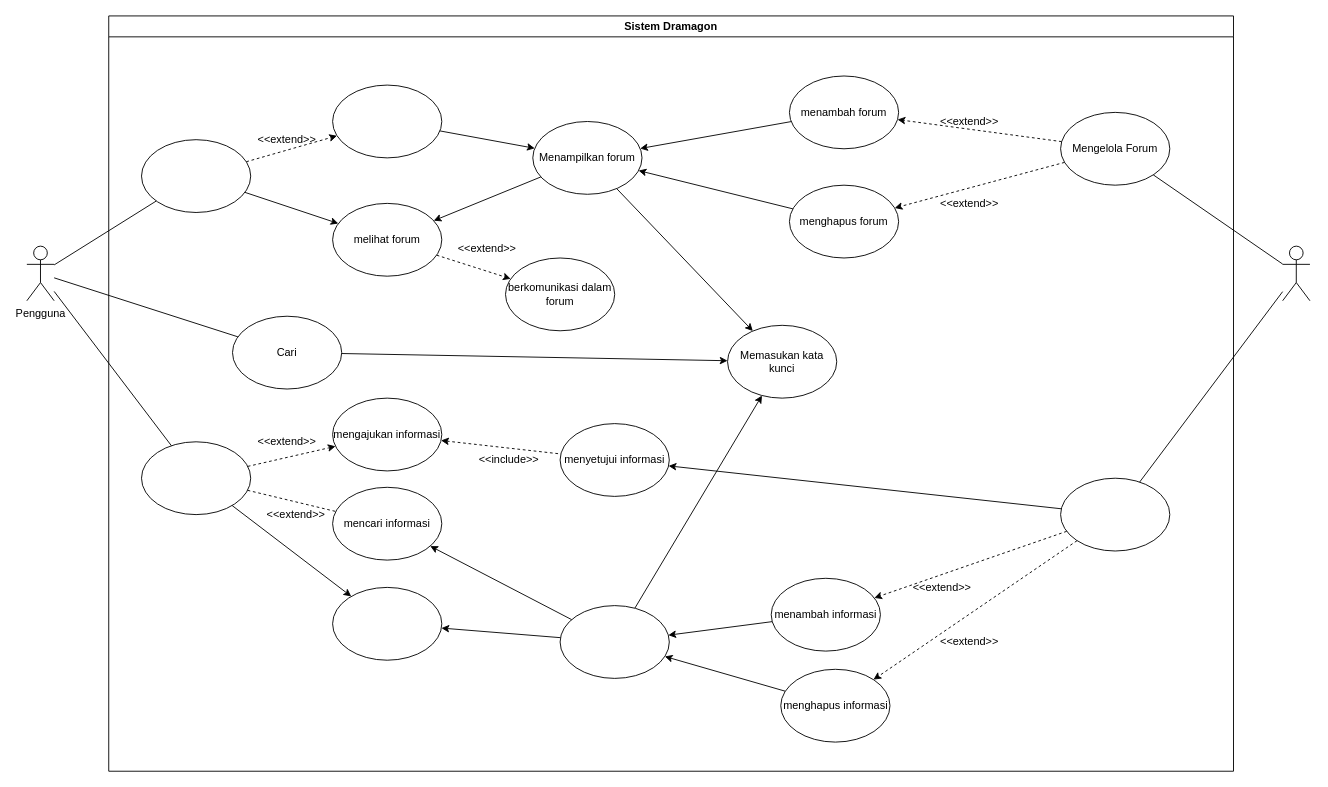
This 1328x787 diagram has some shape labels left out. Each missing label, with the box of its shape:
Admin: (1282, 245, 1310, 301)
Forum: (141, 139, 251, 212)
Informasi: (141, 441, 251, 515)
melihat informasi: (332, 586, 442, 660)
membuat forum: (332, 84, 442, 158)
menampilkan informasi: (559, 605, 669, 678)
Mengelola informasi: (1060, 477, 1170, 551)
